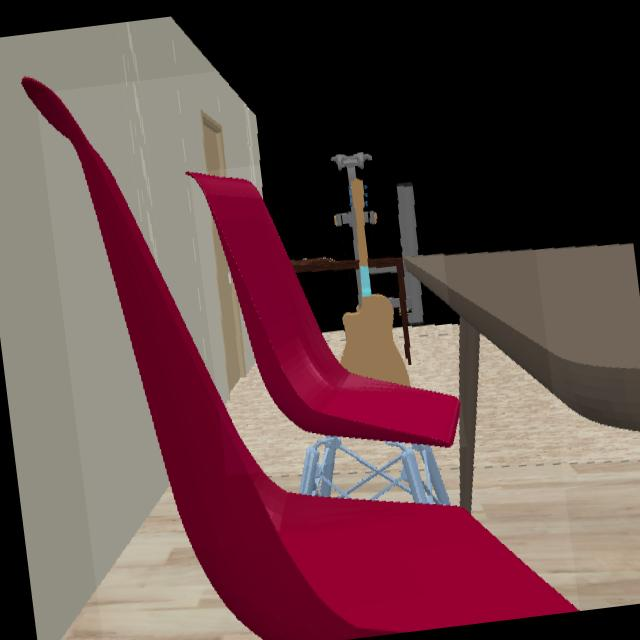chair: (35, 92, 579, 640), (189, 174, 462, 450)
table: (403, 243, 640, 501)
